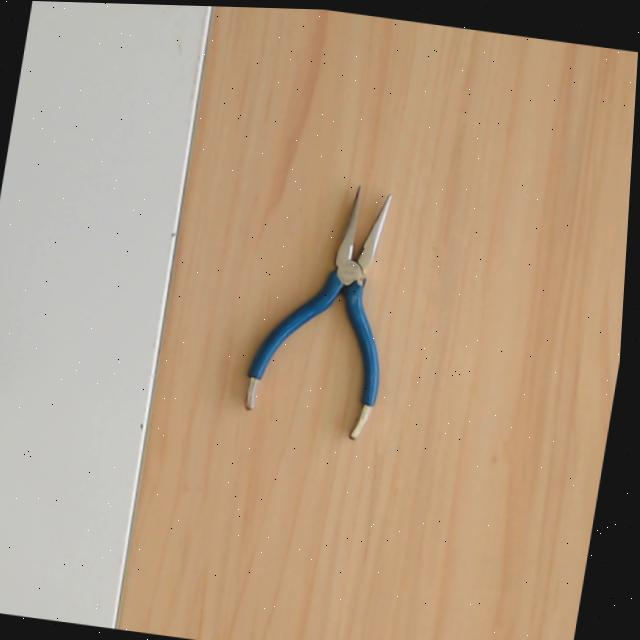Tang-Jepit-Biru: (237, 167, 438, 445)
